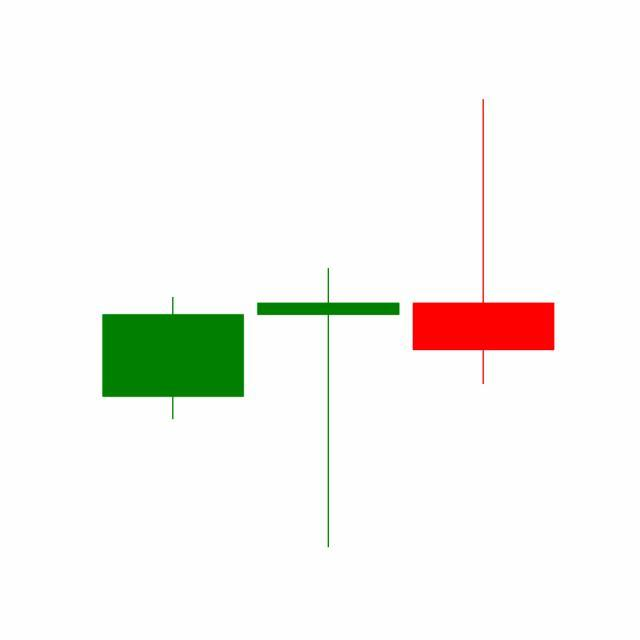Spinning Top: (250, 265, 407, 551)
